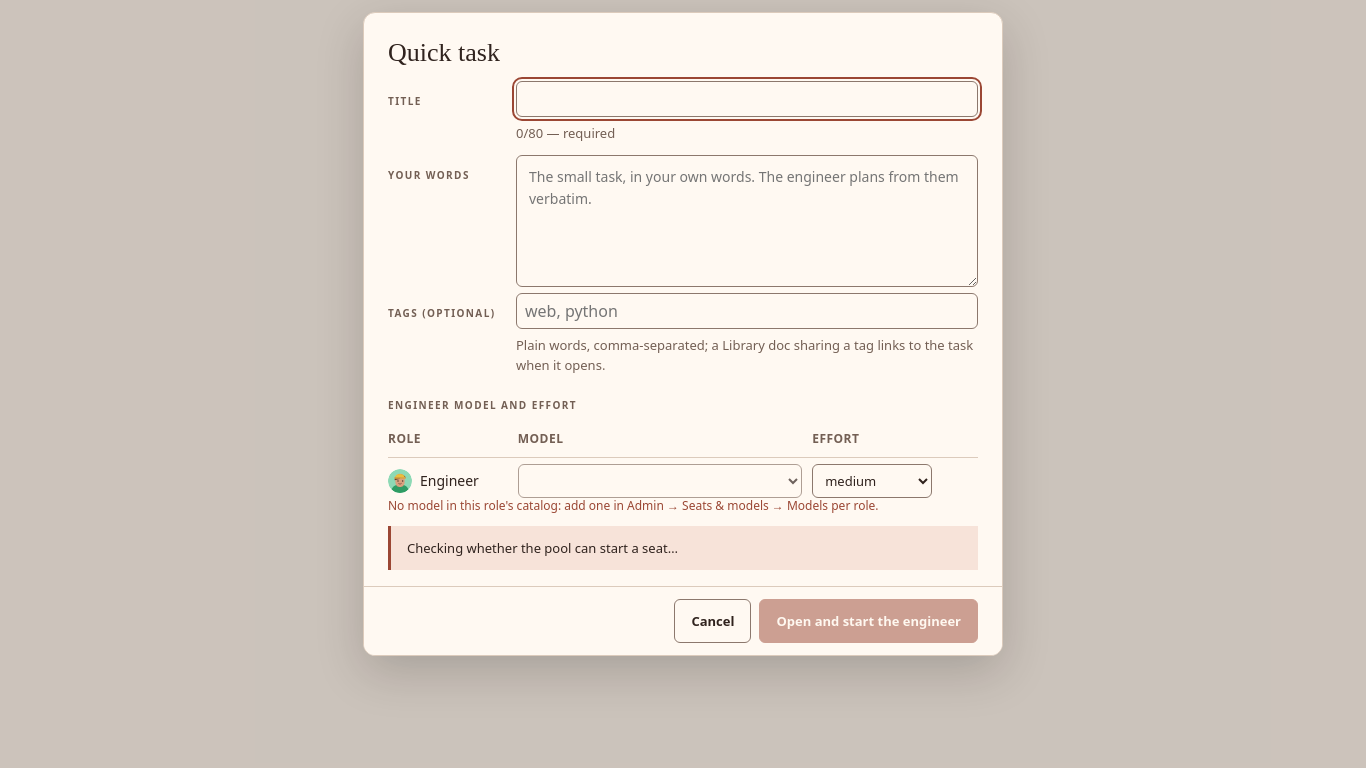
Scenario: QuickTaskDialog (S-QUICK) › refuses to open a task the pool cannot start, and says why
Type "T" into the field with test id "quick-task-title" at (747, 99), box [516,81,978,117]
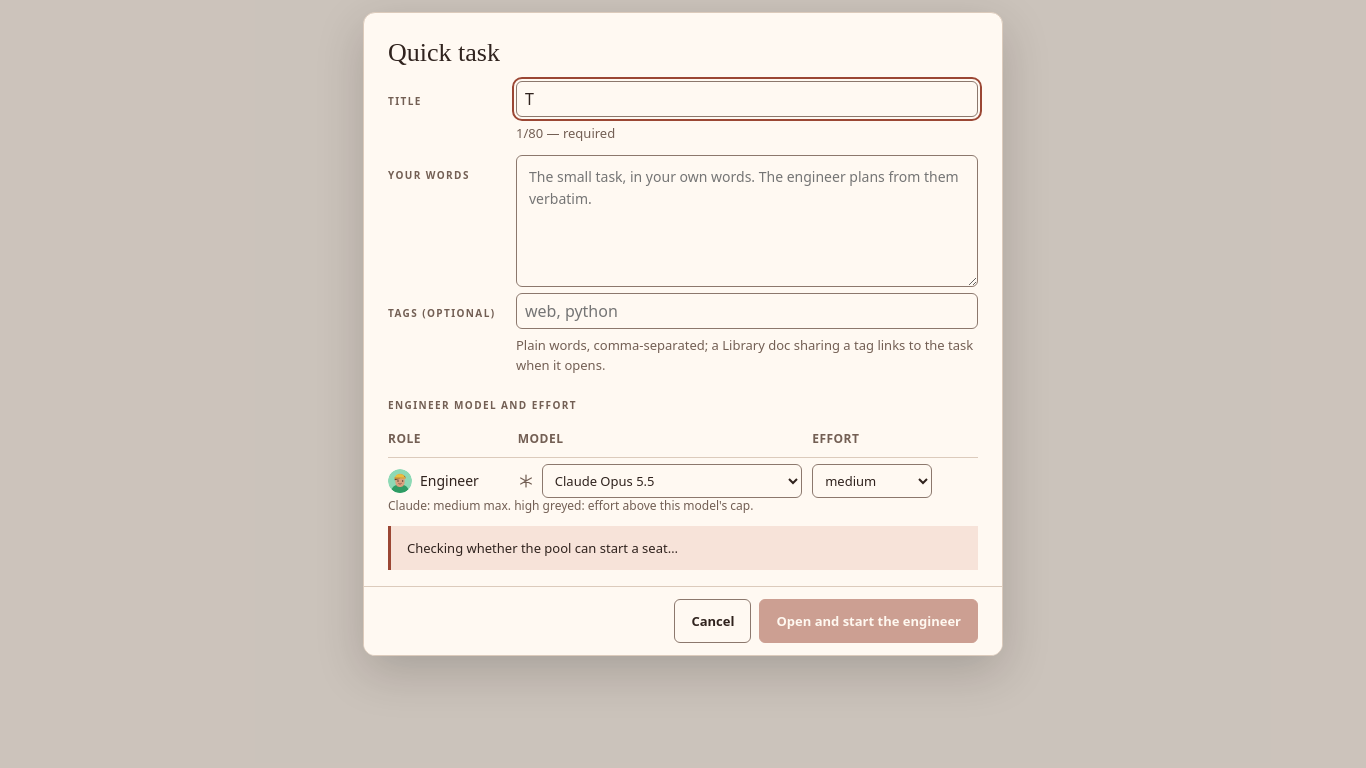
Replace the text in the text box with test id "quick-task-words" with "w" at (747, 221), box [516,155,978,287]
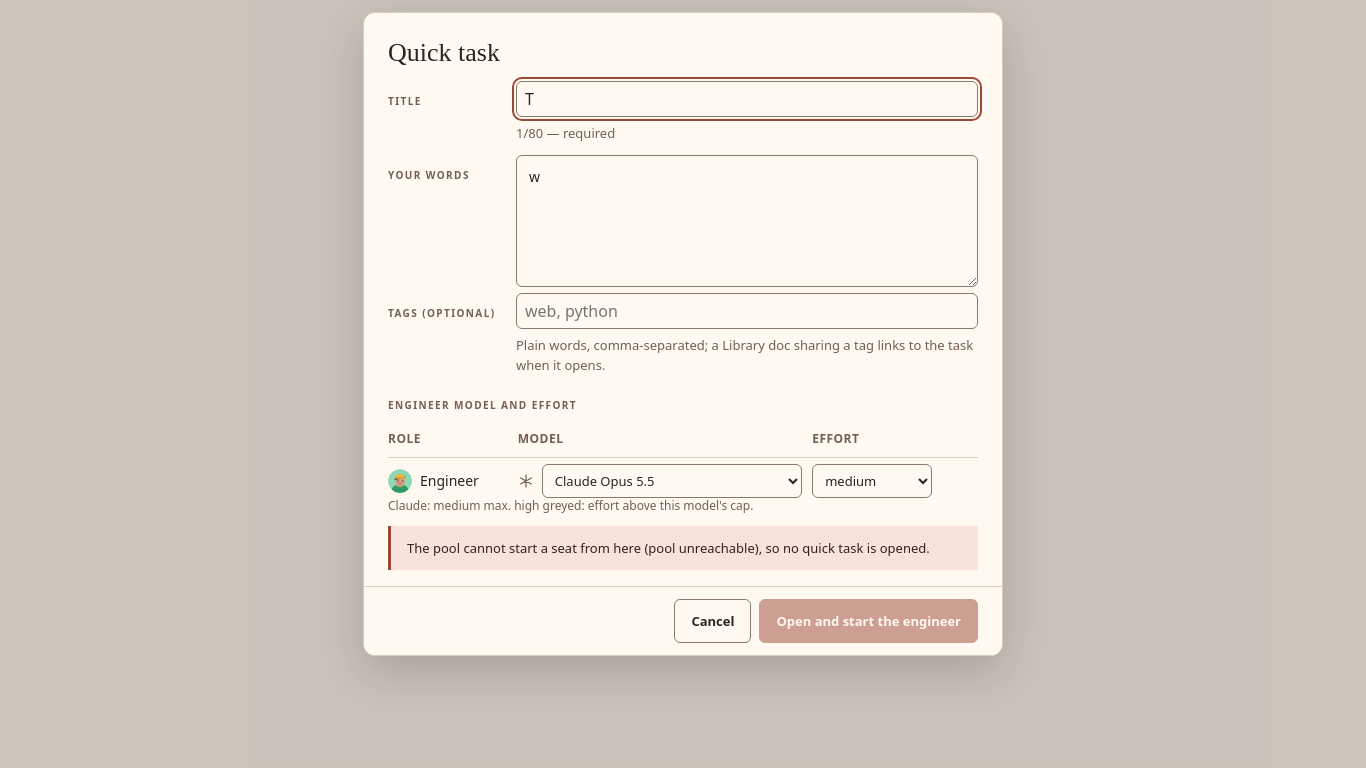
Check: the button with test id "quick-task-create" is disabled, box [760,599,978,643]
Check: the text with test id "quick-task-preview" shows "pool unreachable", box [407,539,930,557]
